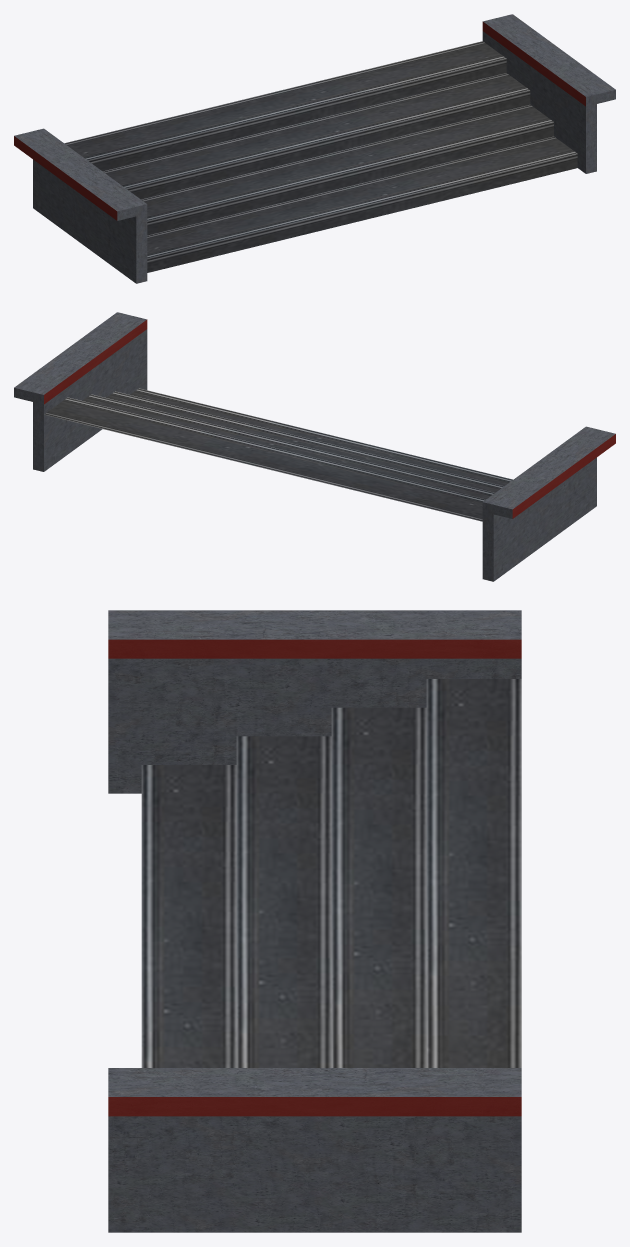
Rendered from front stair.FBX.
3 views of the same model, one above another, from view 1: azimuth 30°, elevation 25°; view 2: azimuth 150°, elevation 25°; view 3: azimuth 270°, elevation 25° (orthographic). The views are drawn at different scales.
Parts seen in each view (by area): view 1: front stair; view 2: front stair; view 3: front stair.
Boxes of the visible parts, x1=… form: front stair: x1=14, y1=14, x2=615, y2=283; front stair: x1=14, y1=312, x2=615, y2=581; front stair: x1=108, y1=610, x2=521, y2=1232.
Bounding box in the file's own units: 18.18 × 2.69 × 6.52.
